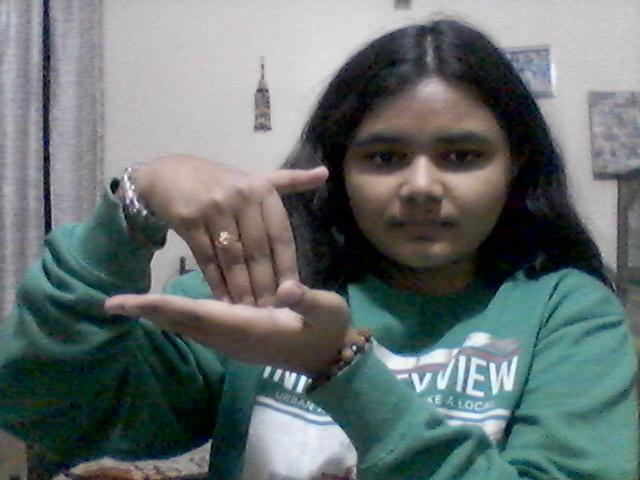repeat: (102, 139, 365, 376)
